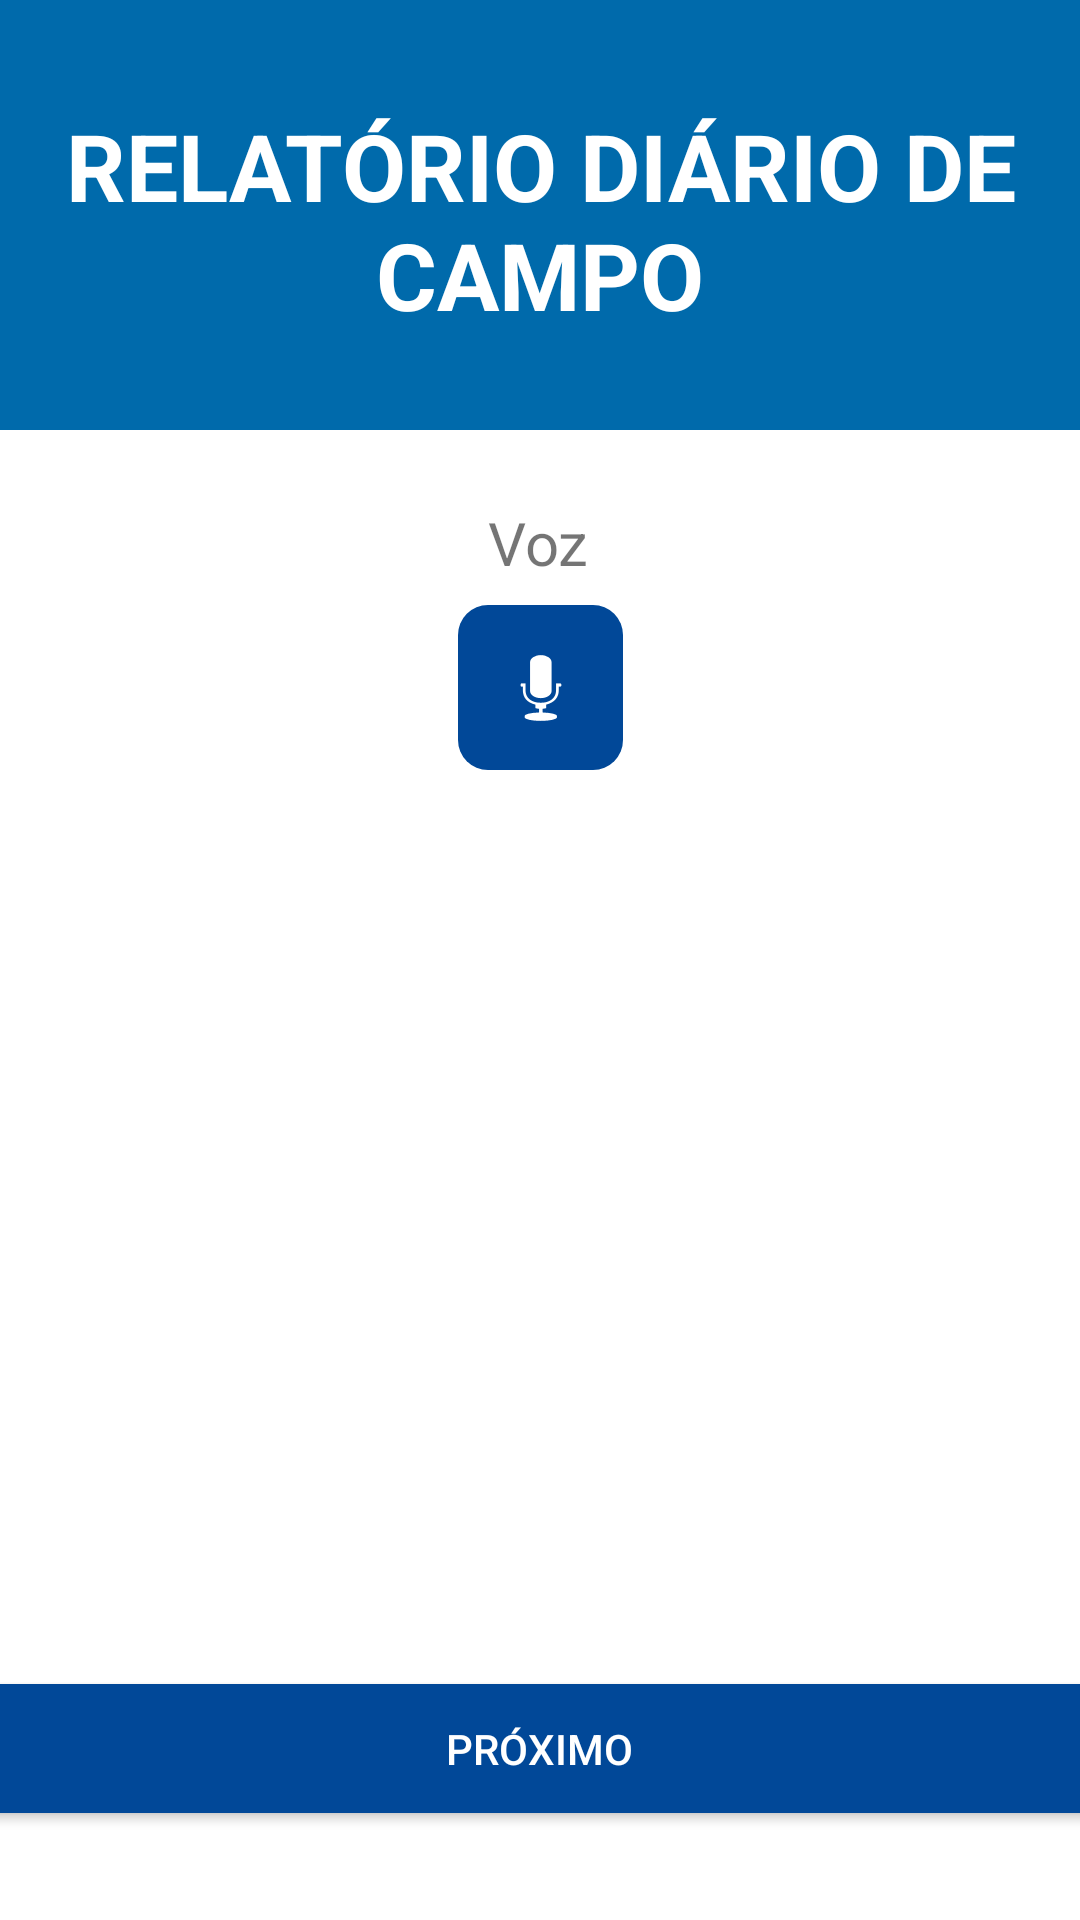

Icon click points for this 1080x1920 phone screenshot, format (x=x, y=y):
speak now: (x=540, y=687)
